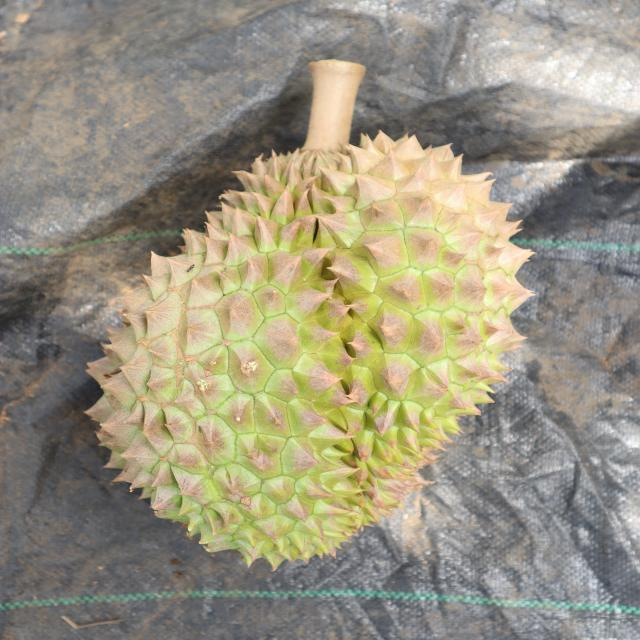mature: (82, 130, 538, 574)
